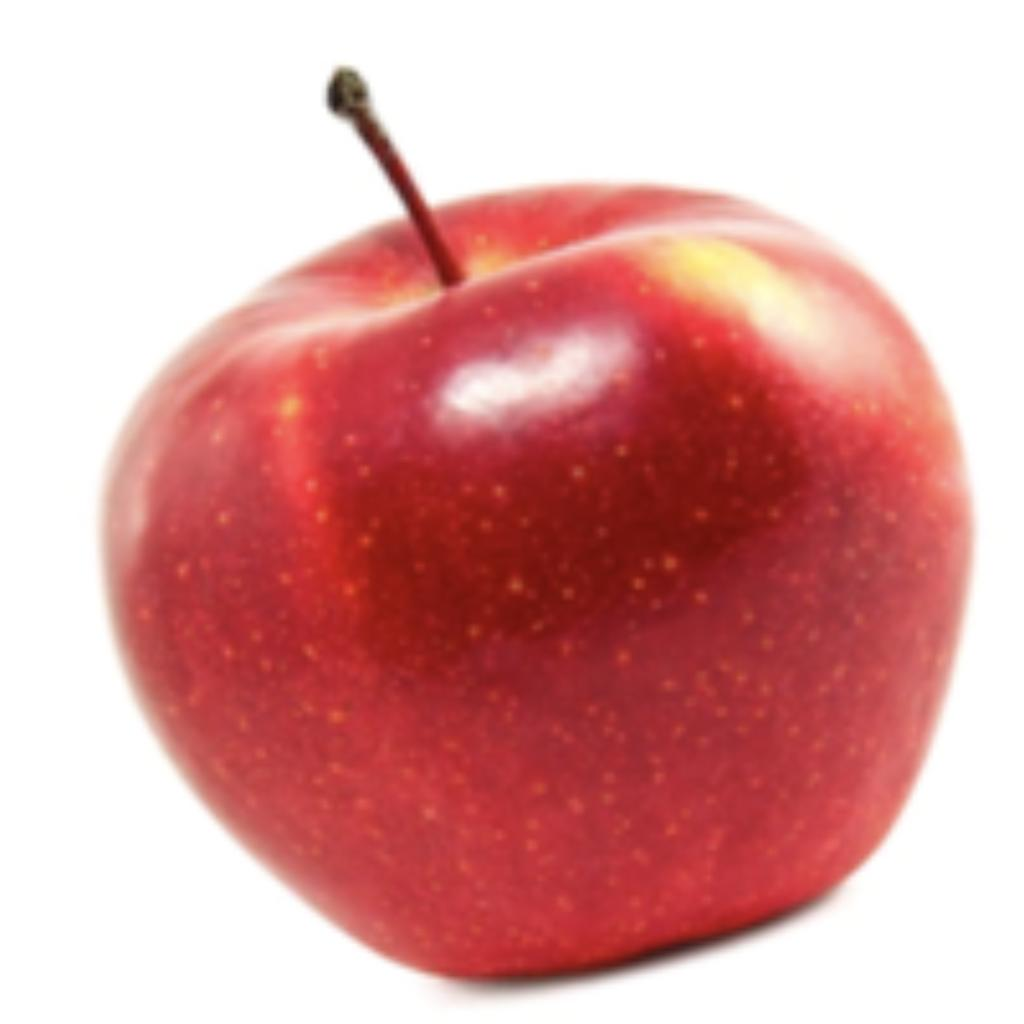apple: (87, 56, 978, 1009)
